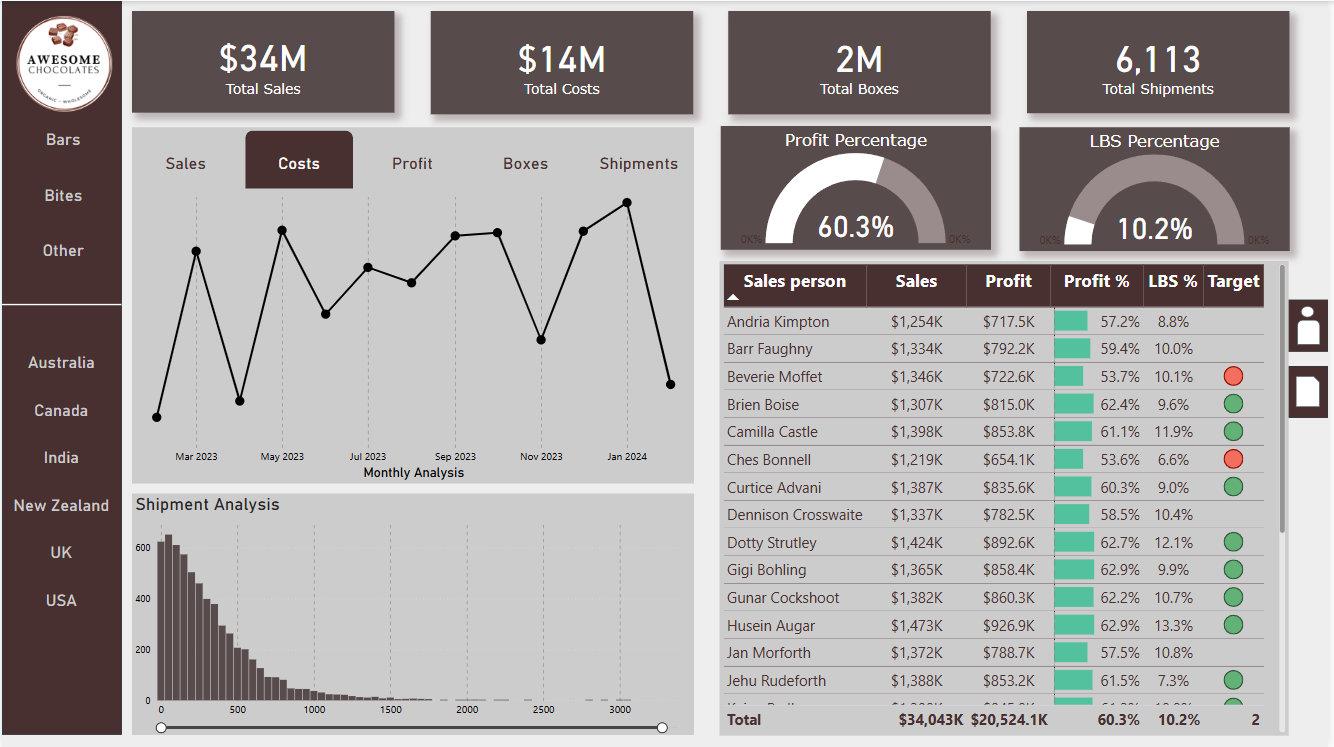

This screenshot's page, from the dashboard's own definition file:
{"tool":"powerbi","page":{"name":"report","canvas":[1920,1080],"ordinal":1},"visuals":[{"type":"shape","box":[1766.3,528.2,153.7,75.5],"z":0},{"type":"shape","box":[1766.3,433.2,153.7,75.5],"z":1000},{"type":"card","fields":{"Values":["_Measures.Total Sales"]},"box":[188.7,15.2,380,147.5],"z":2000},{"type":"shape","title":"people2","box":[1880.9,441.6,19.6,16.8],"z":3000},{"type":"card","fields":{"Values":["_Measures.Total Costs"]},"box":[620.4,14.3,380,149.3],"z":4000},{"type":"shape","title":"people1","box":[1875.3,461.1,33.5,36.3],"z":5000},{"type":"card","fields":{"Values":["_Measures.Total Boxes"]},"box":[1052.2,14.3,380,149.3],"z":6000},{"type":"card","fields":{"Values":["_Measures.Total Shipments"]},"box":[1483.9,14.5,380,148.4],"z":7000},{"type":"gauge","title":"Profit Percentage","fields":{"Y":["_Measures.Profit %"]},"box":[1040.6,181,390.9,179.2],"z":8000},{"type":"gauge","title":"LBS Percentage","fields":{"Y":["_Measures.LBS %"]},"box":[1473.1,182.8,390.9,179.2],"z":9000},{"type":"advancedSlicerVisual","fields":{"Values":["Measure selector.Measure selector"]},"box":[188.2,182,814,104.3],"z":10000},{"type":"lineChart","title":"Monthly Analysis","fields":{"Y":["_Measures.Total Costs"],"Category":["calendar.Start of Month"]},"box":[188.2,272,814,427.4],"z":11000},{"type":"clusteredColumnChart","title":"Shipment Analysis","fields":{"Category":["shipments.Boxes (bins)"],"Y":["_Measures.Total Shipments"]},"box":[188.2,713.8,814,349.7],"z":12000},{"type":"tableEx","title":"Sales Person Details","fields":{"Values":["people.Sales person","_Measures.Total Sales","_Measures.Total Profit","_Measures.Profit %","_Measures.LBS %","_Measures.Profit Target Indicater"]},"box":[1038.9,376.3,824.2,687.2],"z":13000},{"type":"shape","title":"Product","box":[1872.5,542.2,35,45],"z":15000},{"type":"shape","box":[0,0,173.7,1062.3],"z":16000},{"type":"advancedSlicerVisual","fields":{"Values":["products.Category"]},"box":[16.1,159,145.2,244.3],"z":17000},{"type":"advancedSlicerVisual","fields":{"Values":["locations.Geo"]},"box":[0,486.3,172.9,419.5],"z":18000},{"type":"shape","box":[0,394.1,172.9,89.9],"z":19000},{"type":"image","box":[16.3,14.5,148.4,152],"z":19001}]}

Visuals, with their boxes in screenshot pixels (x1, y1, x2, y2), scaled from the page's 1920x1080 canvas onto the 1334x747 screenshot:
shape: region(1227, 365, 1333, 418)
shape: region(1227, 300, 1333, 352)
card - _Measures.Total Sales: region(131, 11, 395, 113)
"people2" shape: region(1307, 305, 1320, 317)
card - _Measures.Total Costs: region(431, 10, 695, 113)
"people1" shape: region(1303, 319, 1326, 344)
card - _Measures.Total Boxes: region(731, 10, 995, 113)
card - _Measures.Total Shipments: region(1031, 10, 1295, 113)
"Profit Percentage" gauge: region(723, 125, 995, 249)
"LBS Percentage" gauge: region(1023, 126, 1295, 250)
advancedSlicerVisual - Measure selector.Measure selector: region(131, 126, 696, 198)
"Monthly Analysis" lineChart: region(131, 188, 696, 484)
"Shipment Analysis" clusteredColumnChart: region(131, 494, 696, 736)
"Sales Person Details" tableEx: region(722, 260, 1294, 736)
"Product" shape: region(1301, 375, 1325, 406)
shape: region(0, 0, 121, 735)
advancedSlicerVisual - products.Category: region(11, 110, 112, 279)
advancedSlicerVisual - locations.Geo: region(0, 336, 120, 627)
shape: region(0, 273, 120, 335)
image: region(11, 10, 114, 115)
